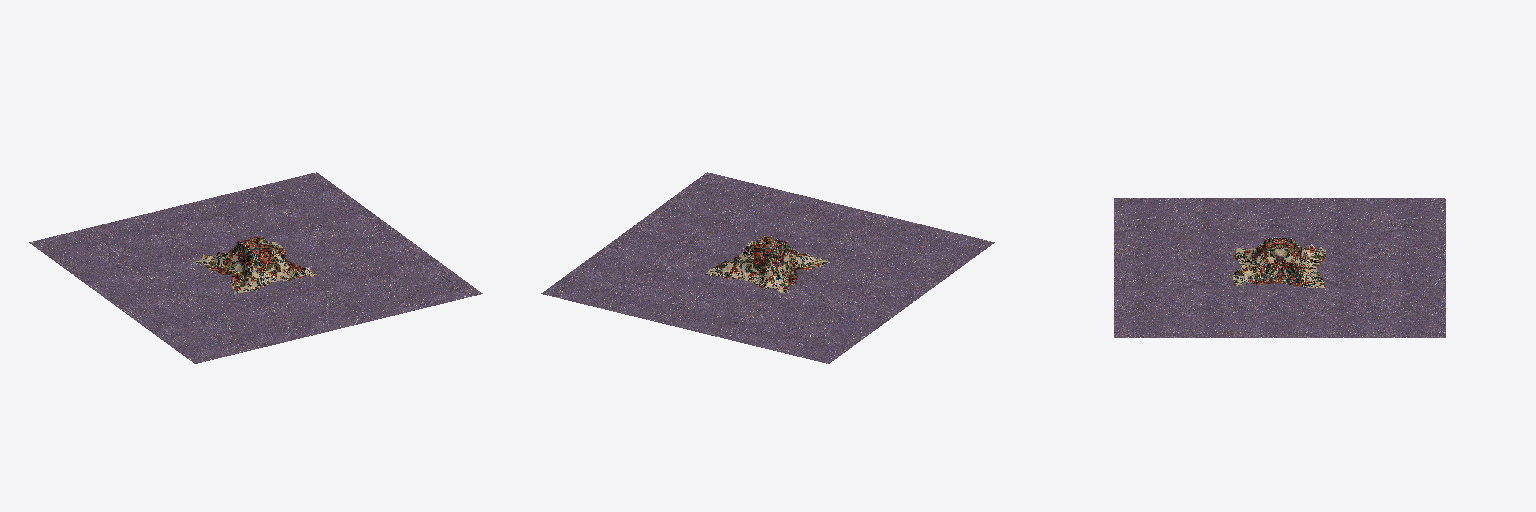
3 views of the same model, side by side, from view 1: azimuth 30°, elevation 25°; view 2: azimuth 150°, elevation 25°; view 3: azimuth 270°, elevation 25° (orthographic).
Parts seen in each view (by area): view 1: Plane.001, Plane; view 2: Plane.001, Plane; view 3: Plane.001, Plane.
Boxes of the visible parts, <box> form: Plane.001: <box>29,172,482,363</box>; Plane: <box>193,236,316,292</box>; Plane.001: <box>541,172,994,363</box>; Plane: <box>705,236,829,292</box>; Plane.001: <box>1114,198,1445,337</box>; Plane: <box>1232,238,1325,287</box>.
Size of the model in its own units: 24.91 by 2.04 by 24.91.
3 materials, 2 textured.